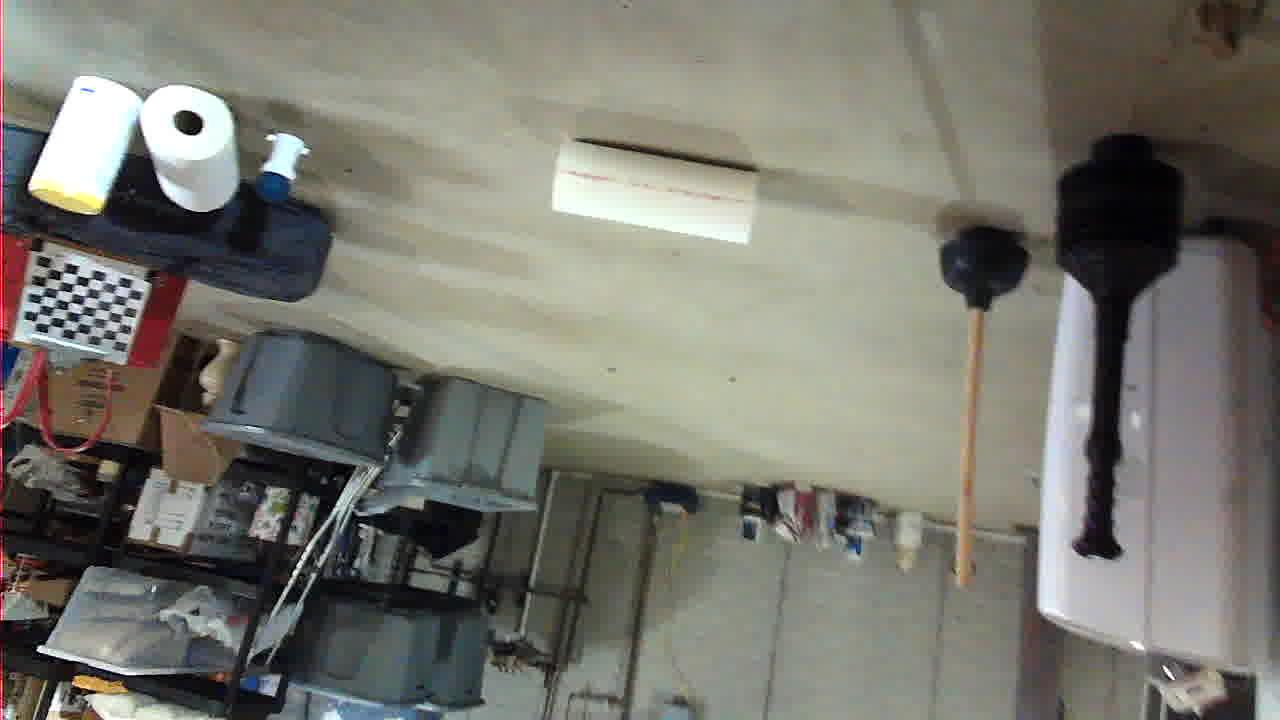coral: (526, 479, 728, 576)
